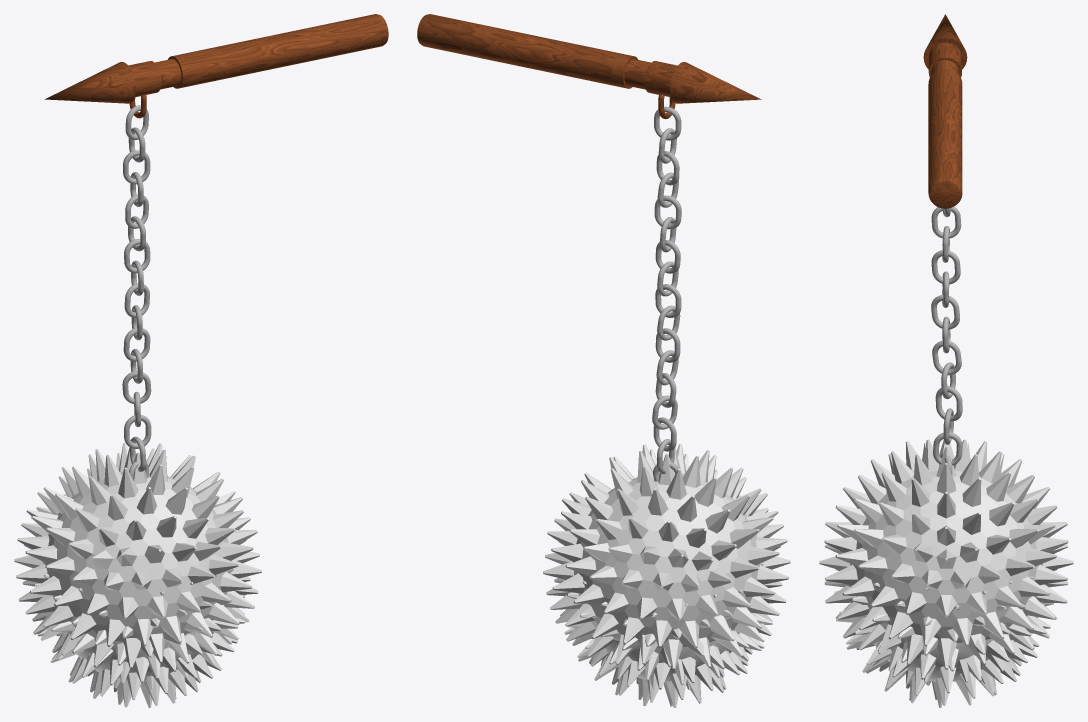
File: mace.fbx
3 renders of one model, left to right at view 1: azimuth 30°, elevation 25°; view 2: azimuth 150°, elevation 25°; view 3: azimuth 270°, elevation 25°, orthographic. The views are drawn at different scales.
Parts seen in each view (by area): view 1: Icosphere.001, Handle, Spikey; view 2: Icosphere.001, Handle, Spikey; view 3: Icosphere.001, Spikey, Handle, Torus.011, Torus.007, Torus.005, Torus.009, Torus.003, Torus.013.
Part boxes in pixels (bbox=[...]): Icosphere.001: bbox=[14, 443, 261, 688]; Handle: bbox=[44, 14, 388, 118]; Spikey: bbox=[34, 561, 246, 707]; Icosphere.001: bbox=[543, 444, 790, 689]; Handle: bbox=[417, 14, 761, 119]; Spikey: bbox=[563, 562, 773, 707]; Icosphere.001: bbox=[819, 439, 1073, 685]; Spikey: bbox=[834, 568, 1053, 707]; Handle: bbox=[923, 14, 967, 208]; Torus.011: bbox=[931, 250, 960, 284]; Torus.007: bbox=[932, 340, 961, 375]; Torus.005: bbox=[935, 386, 962, 421]; Torus.009: bbox=[931, 295, 959, 329]; Torus.003: bbox=[933, 432, 962, 465]; Torus.013: bbox=[931, 206, 961, 238].
Bounding box in the file's own units: 3546 × 6148 × 2172.
3 materials, 1 textured.
